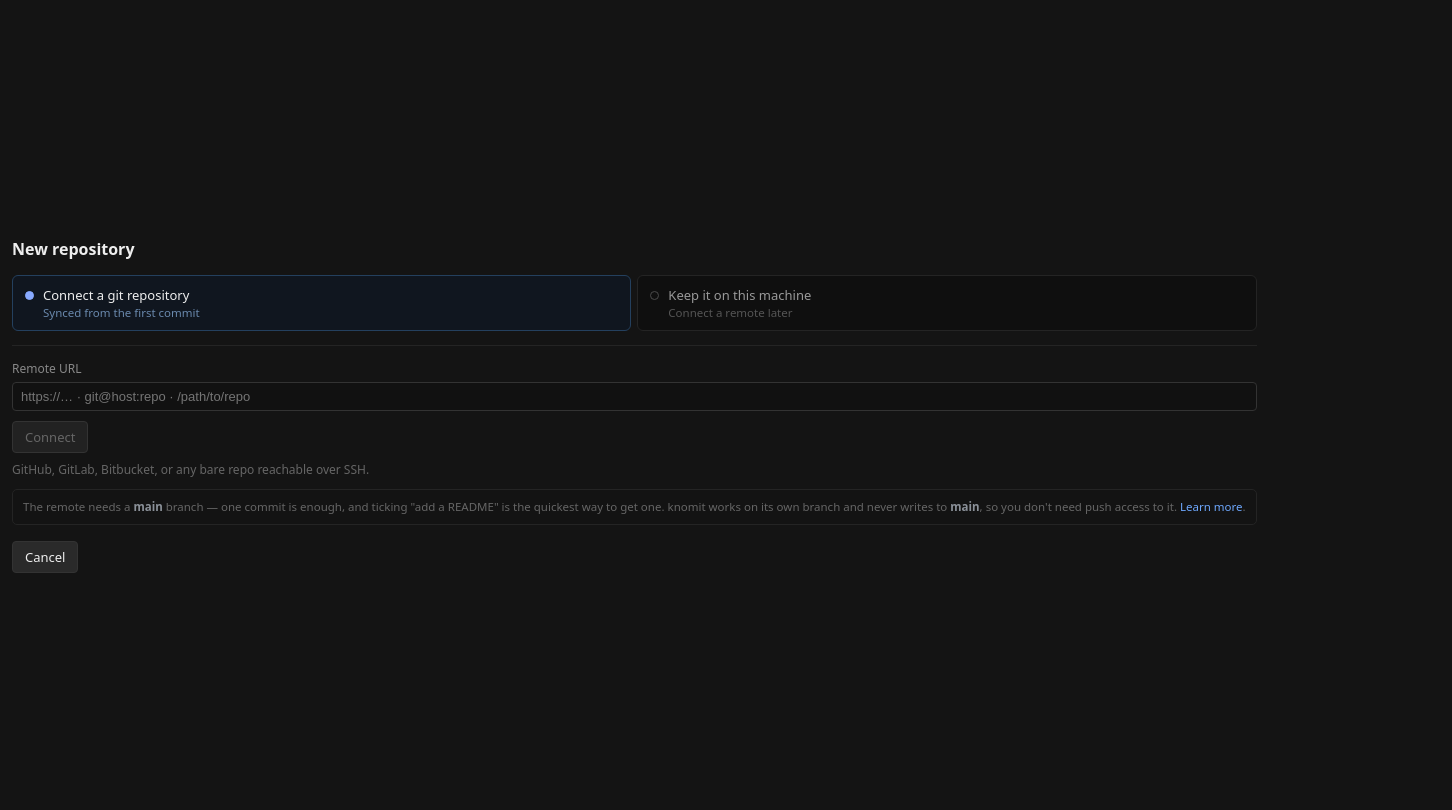
CreateRepoWizard › blocks Next on the access step for basic auth with a blank username
The image size is (1452, 810).
Type "https://h/r.git" into the field with test id "create-url".
click(634, 397); type("https://h/r.git")  # box [12,382,1257,411]
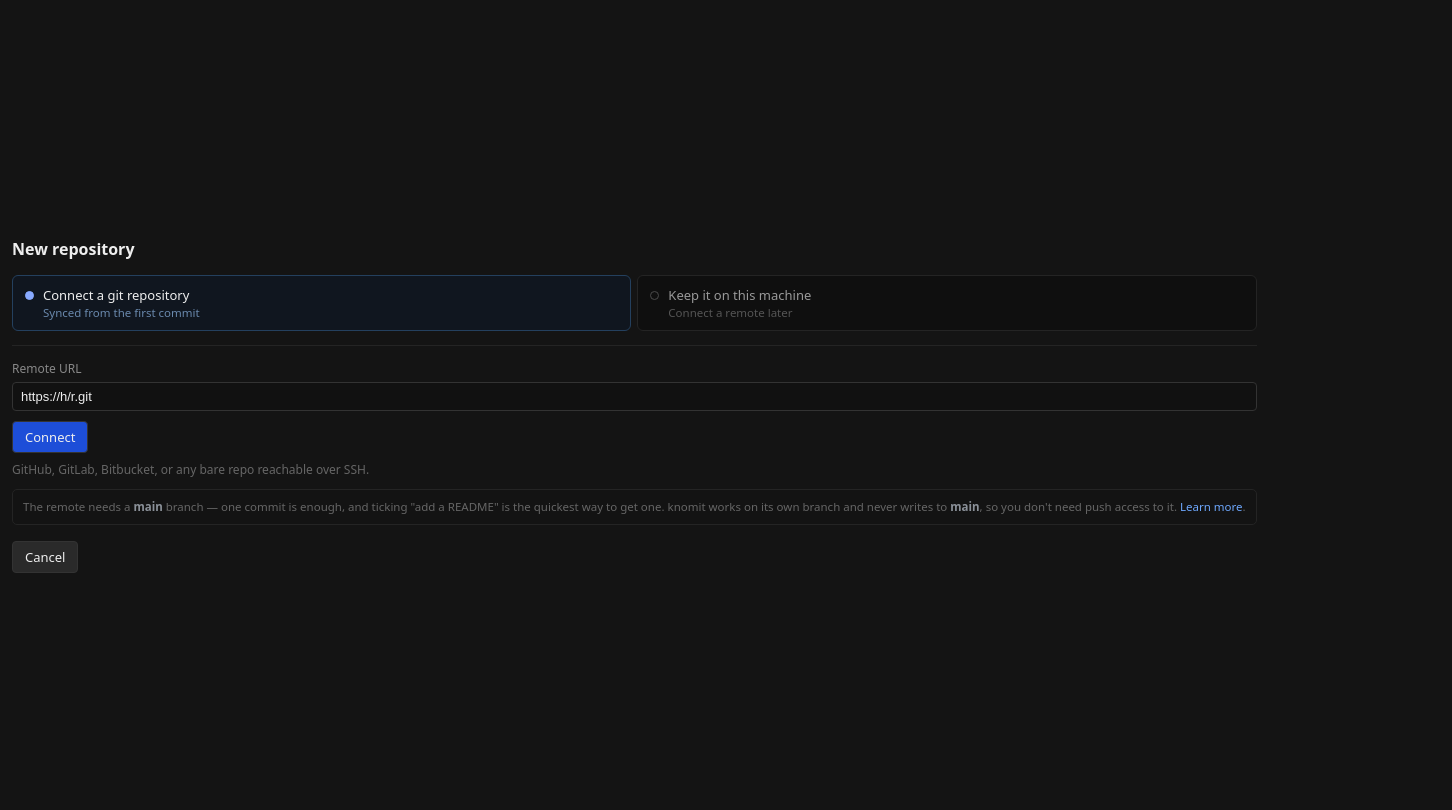
Click the button with test id "probe-button".
click(50, 437)  # box [12,421,88,453]
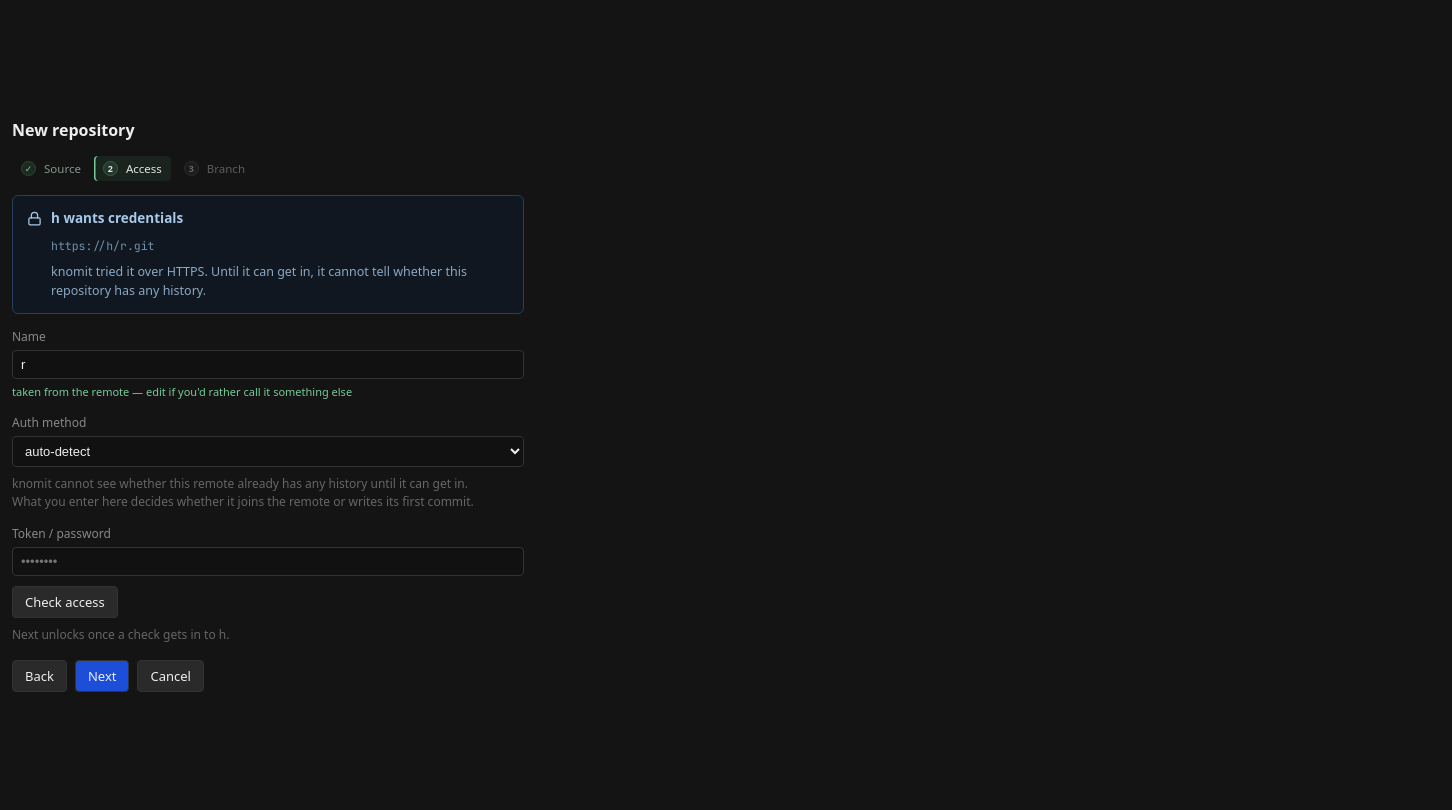
Now the element with test id "step-access" is shown, box [12,195,524,644]
Replace the text in the field with test id "create-name" with "kb" at (268, 364), box [12,350,524,378]
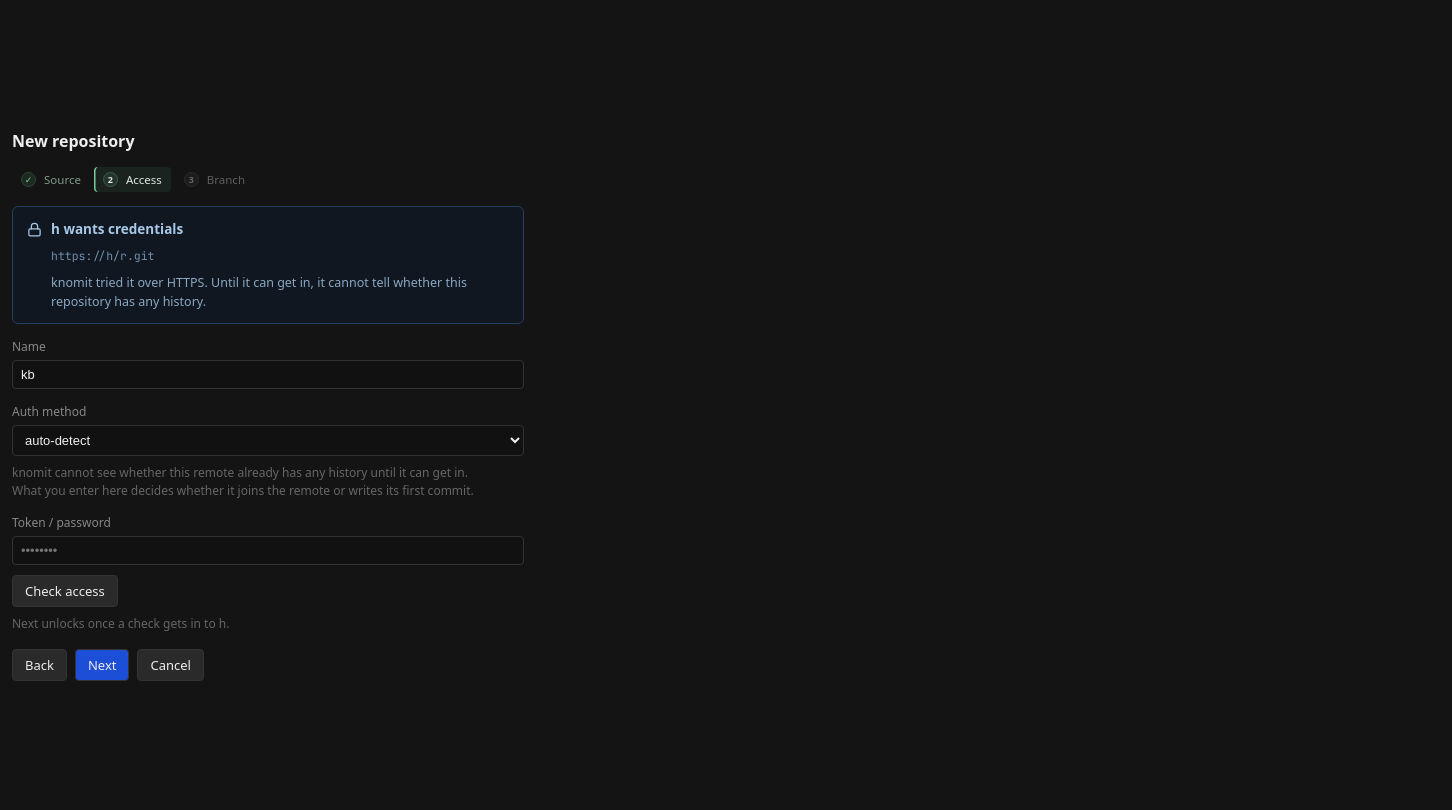
Select "basic" in the dropdown at (268, 441), box [12,425,524,456]
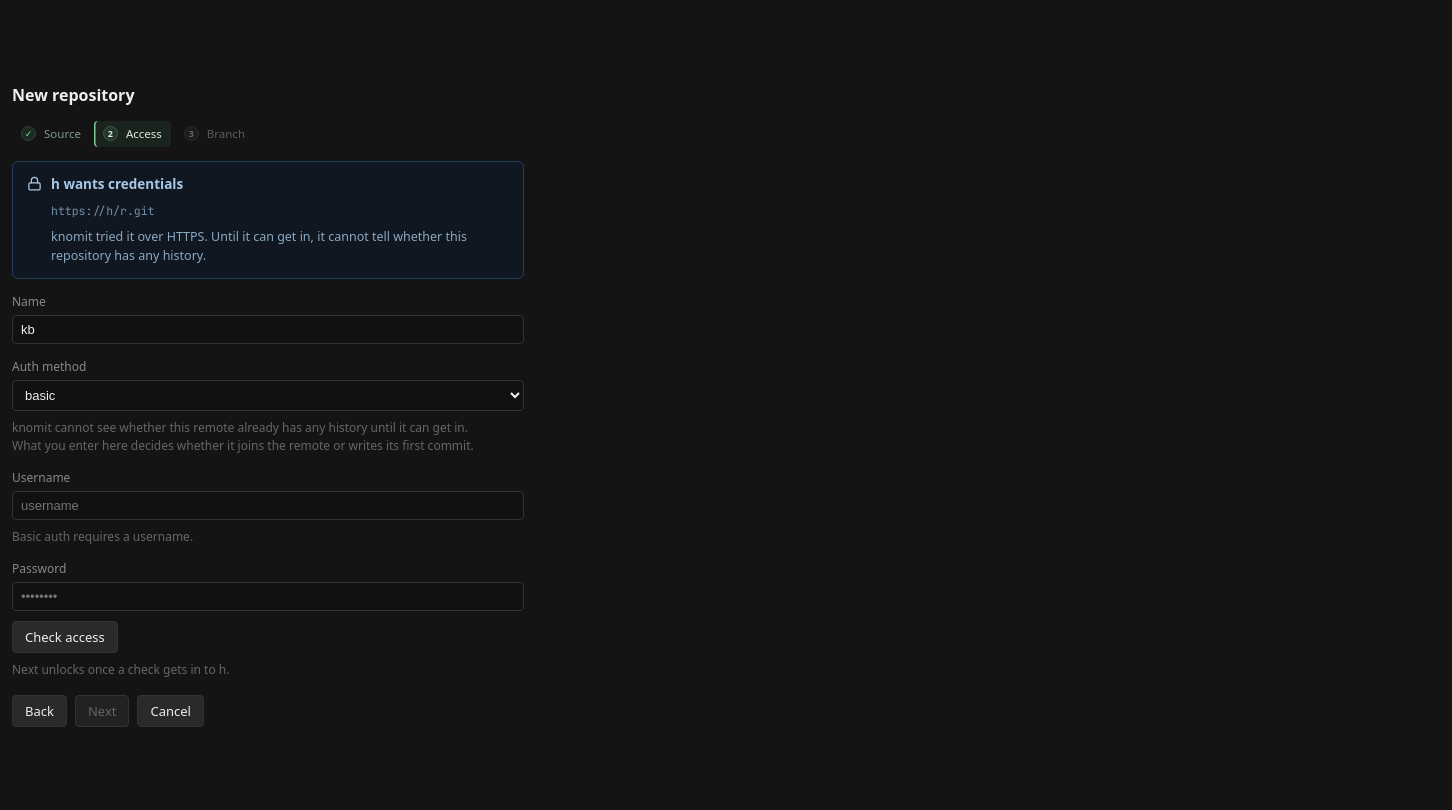
Password only, no username.
Type "s3cret" into the password field with placeholder "••••••••".
click(268, 596); type("s3cret")  # box [12,582,524,611]
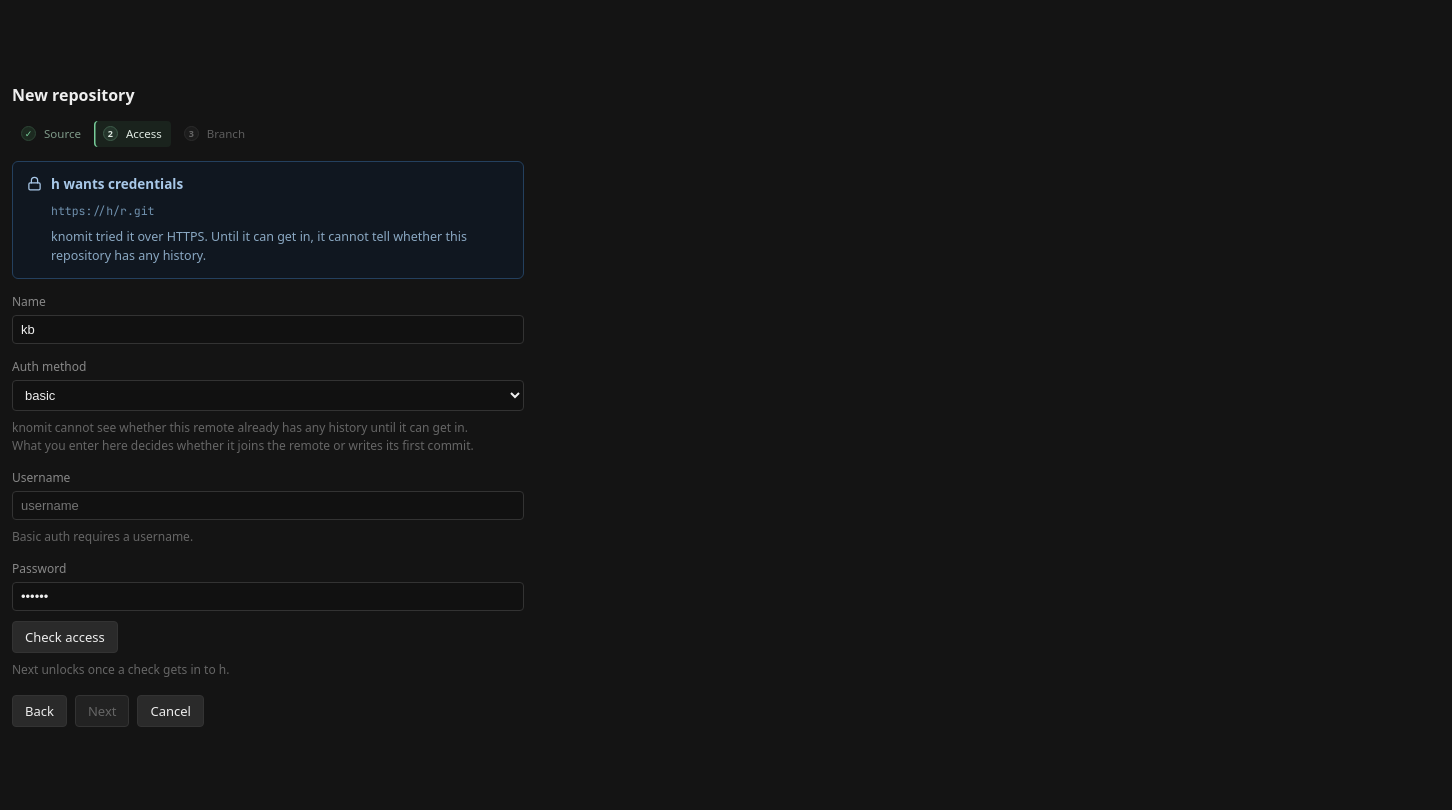
Now the button "Next" is disabled, box [75,695,129,727]
Supplying a username unblocks Next.
Type "alice" into the field with placeholder "username".
click(268, 505); type("alice")  # box [12,491,524,520]
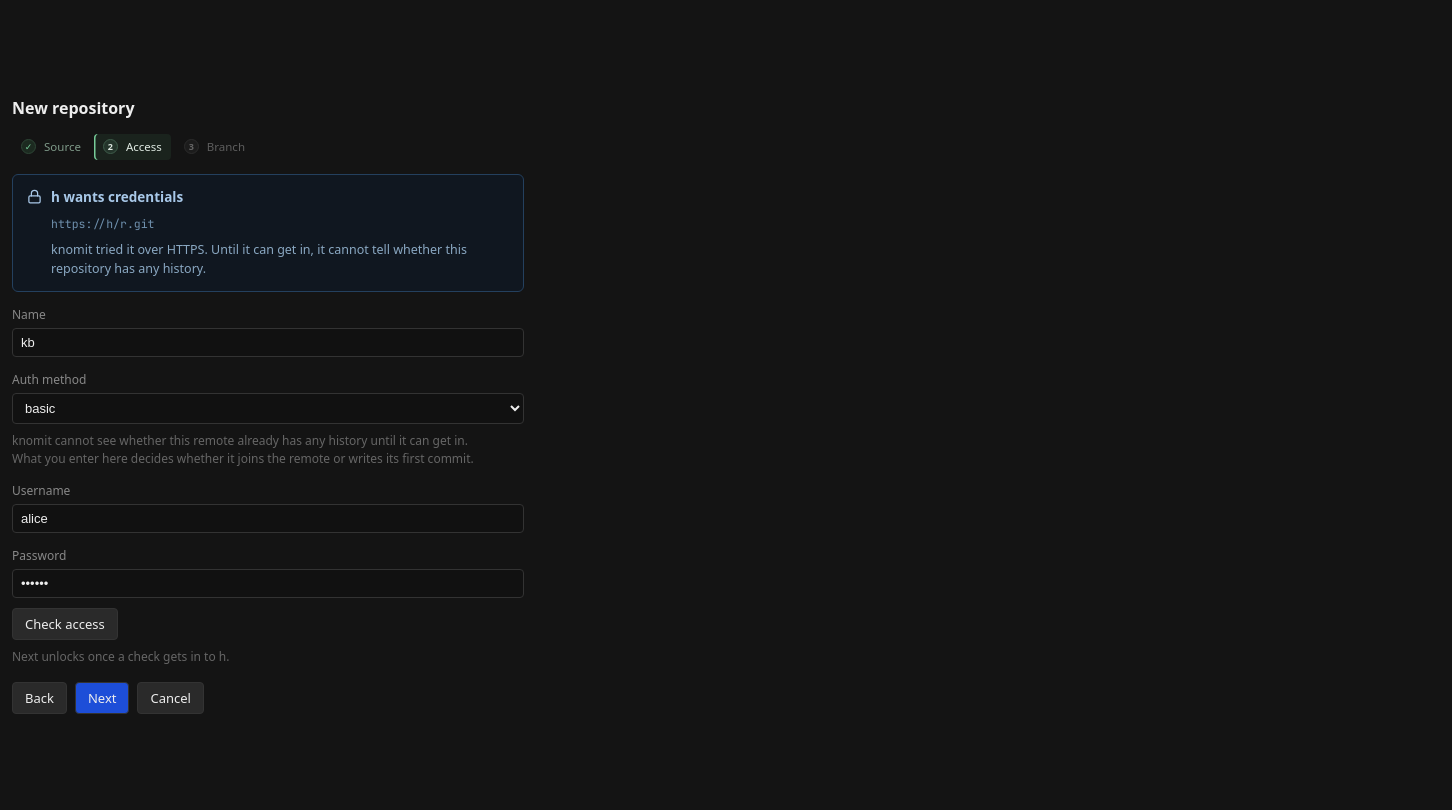
Now the button "Next" is enabled, box [75,682,129,714]
